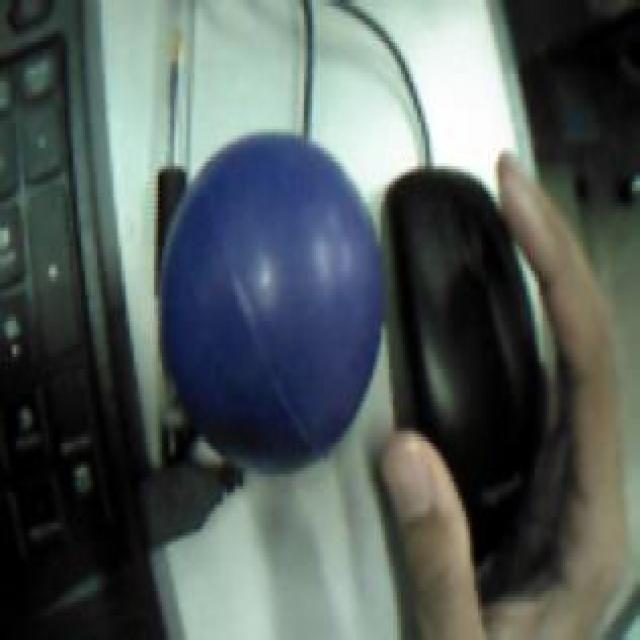BallPurple: (161, 130, 385, 475)
